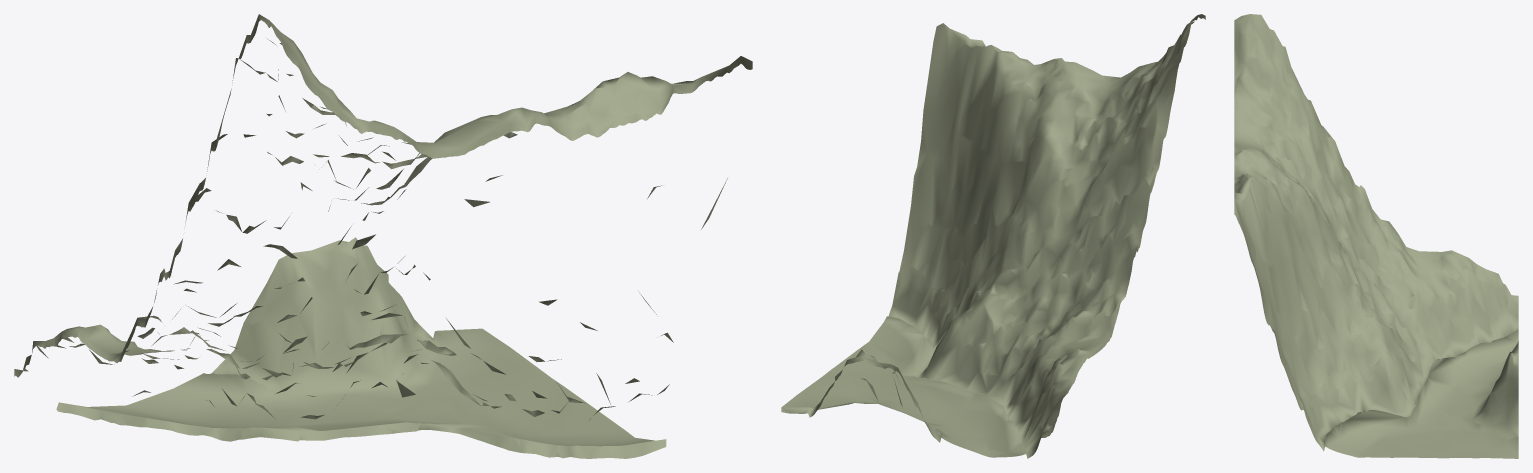
The model's file is terrain_r0_c1_lod1.glb.
3 views of the same model, side by side, from view 1: azimuth 30°, elevation 25°; view 2: azimuth 150°, elevation 25°; view 3: azimuth 270°, elevation 25° (orthographic). The views are drawn at different scales.
Visible parts, largest first — view 1: terrain_r0_c1_lod1; view 2: terrain_r0_c1_lod1; view 3: terrain_r0_c1_lod1.
Part boxes in pixels (<box>): terrain_r0_c1_lod1: <box>14,14,752,458</box>; terrain_r0_c1_lod1: <box>781,14,1205,458</box>; terrain_r0_c1_lod1: <box>1234,14,1518,458</box>.
Bounding box in the file's own units: 50 × 63 × 50.
